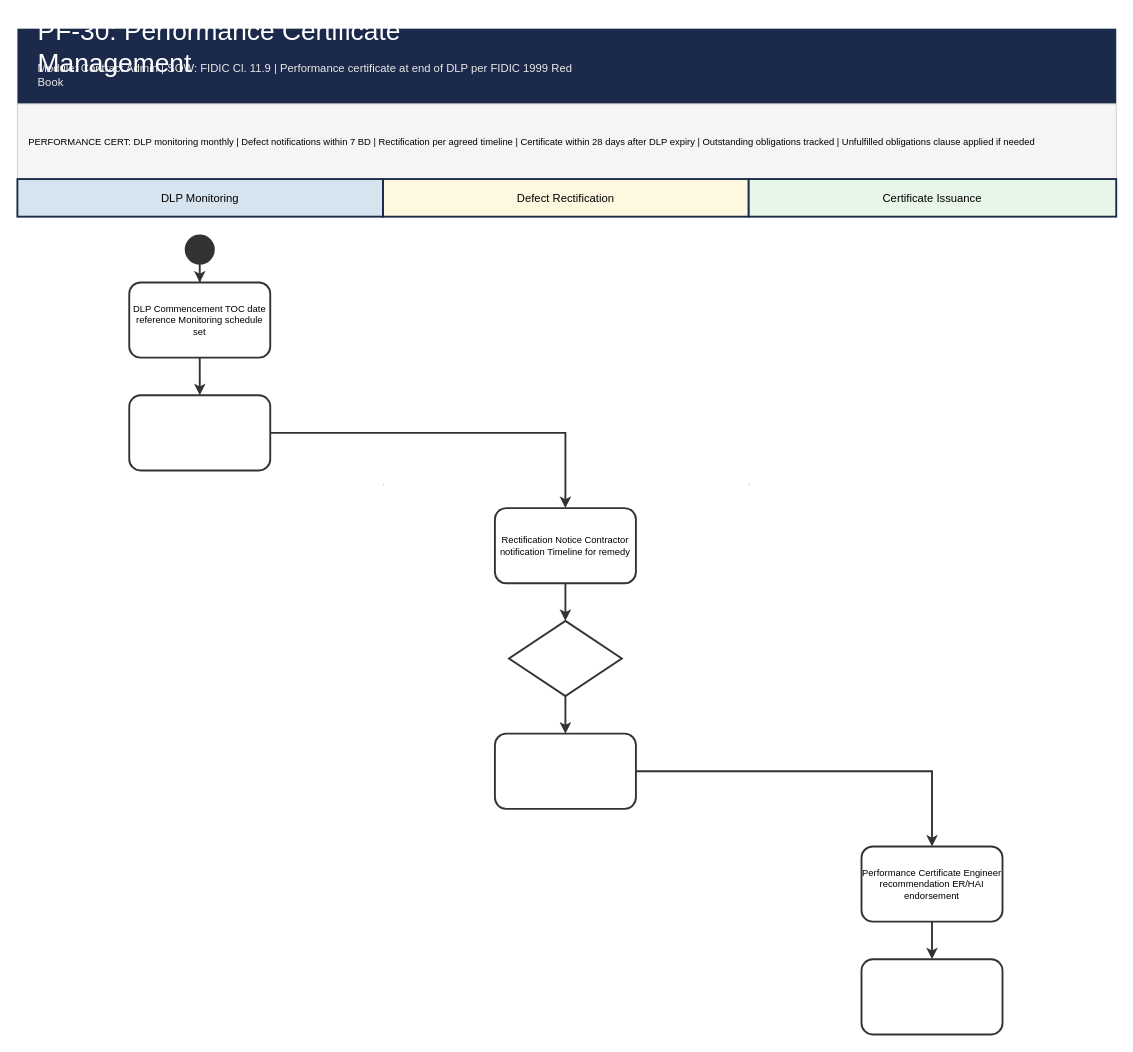
The diagram is 1133 pixels wide and 1052 high, and some of its shapes have lost their labels. Each missing label, with the centre of its shape:
"All Defects Rectified?" belongs at pixel 565 658.
"Defect Identification Regular inspections User-reported defects" belongs at pixel 199 432.
"DLP Expiry Review Final inspection Compliance assessment" belongs at pixel 565 770.
"Obligations Complete All liabilities discharged Warranty period noted" belongs at pixel 931 996.
